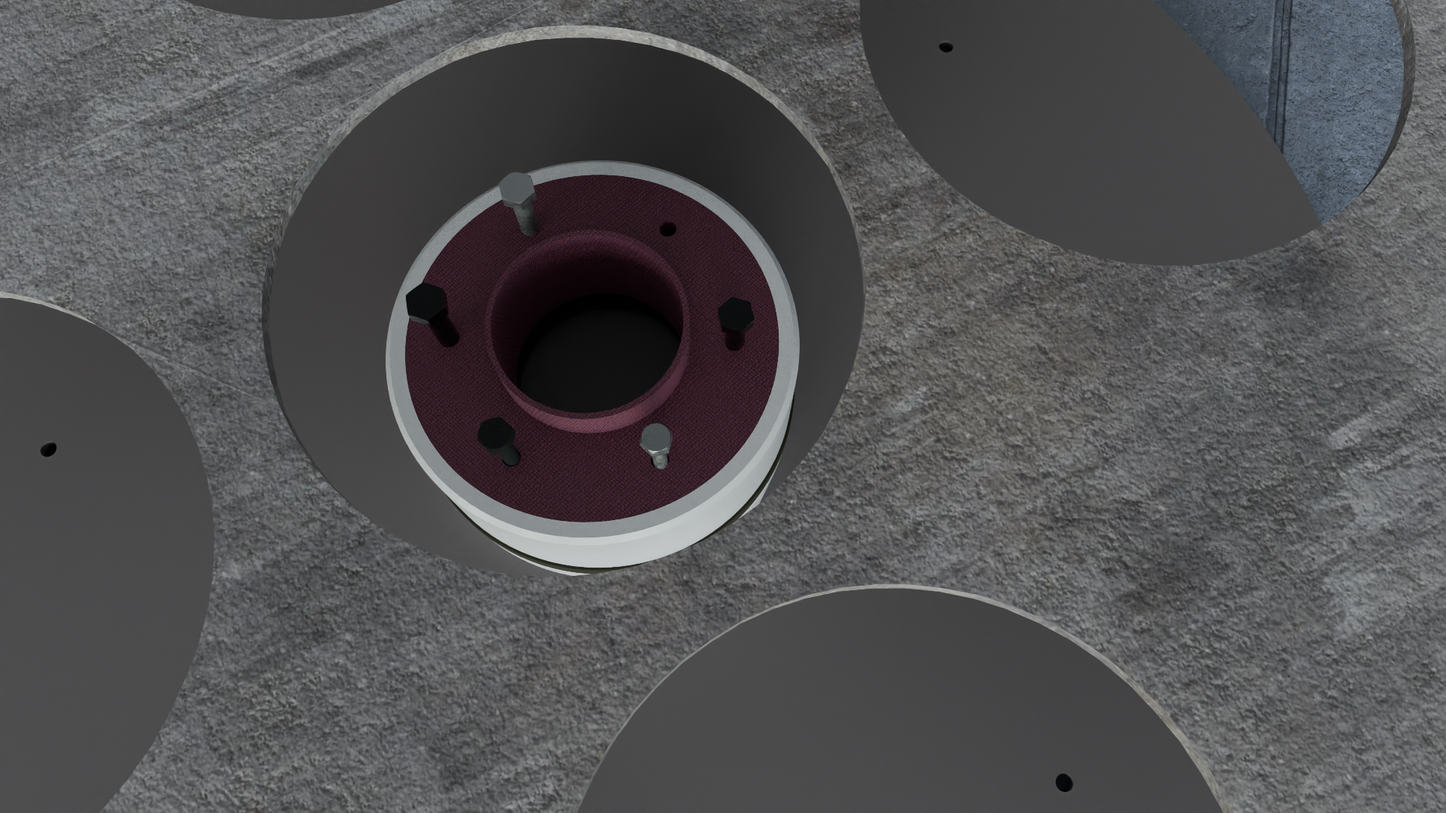bolt: (406, 282, 445, 321), (718, 297, 755, 332), (477, 417, 513, 452), (499, 172, 535, 204), (640, 423, 672, 454)
